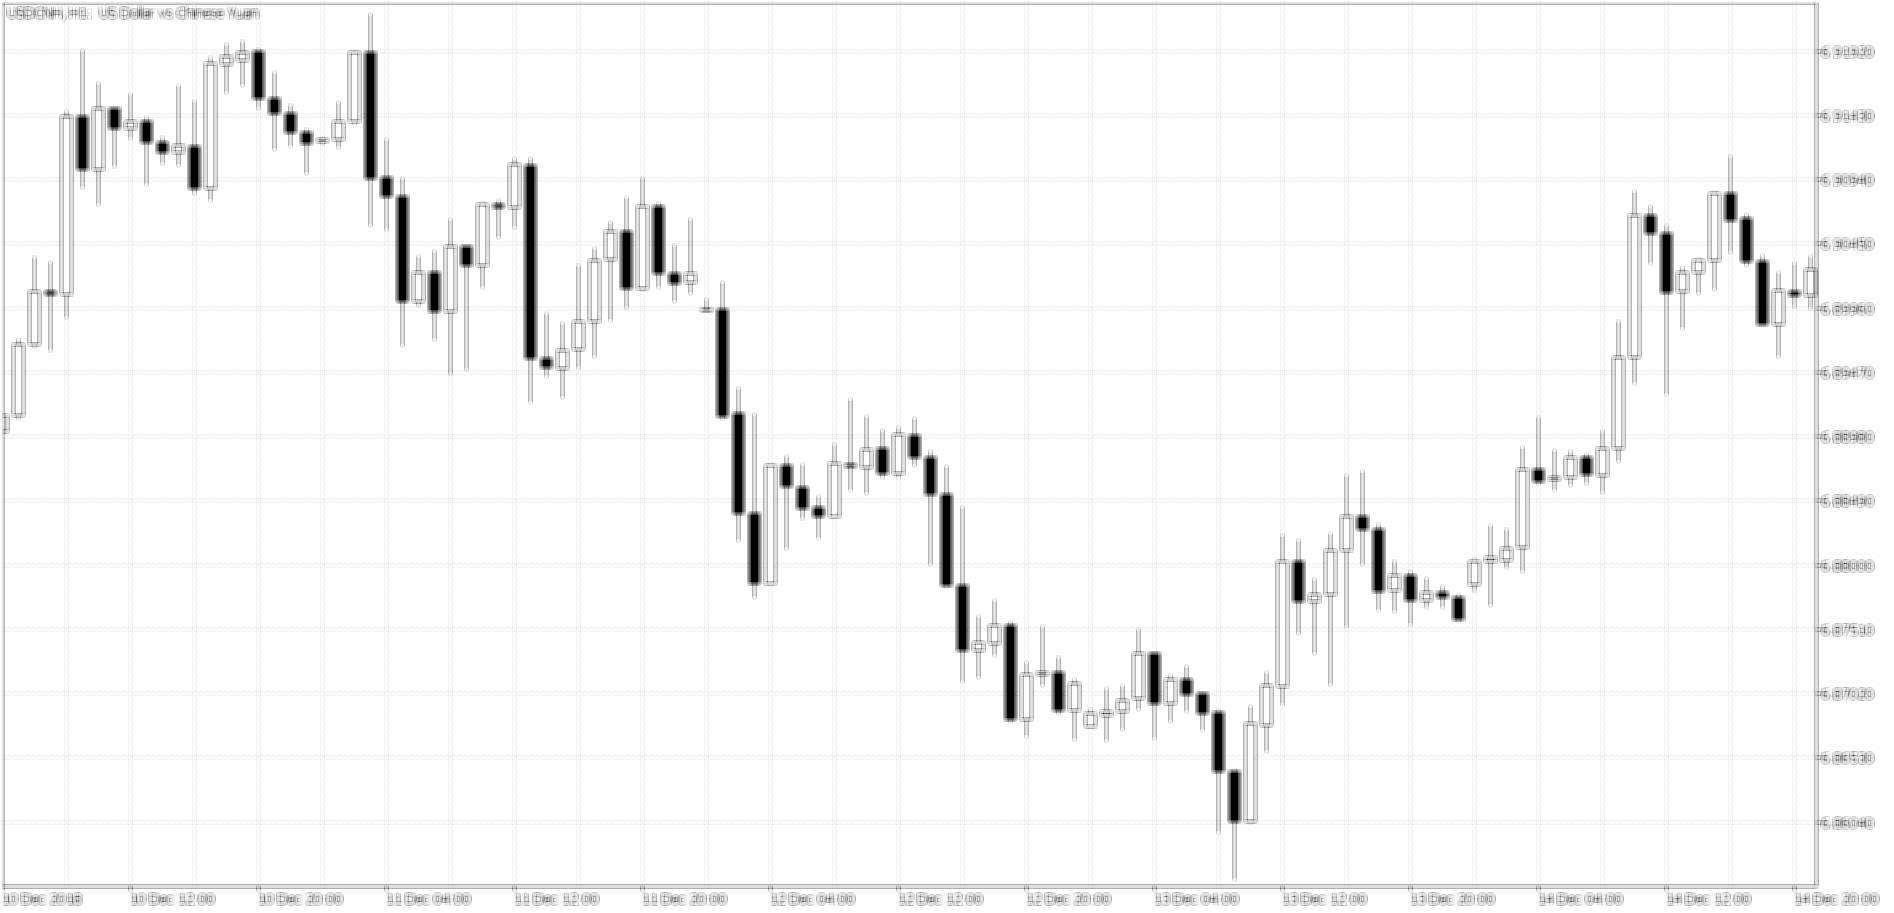3blackcrows: (251, 47, 298, 151)
bullishEngulfing: (188, 53, 217, 197), (539, 322, 570, 399)
hangingMan: (1227, 767, 1242, 878)
